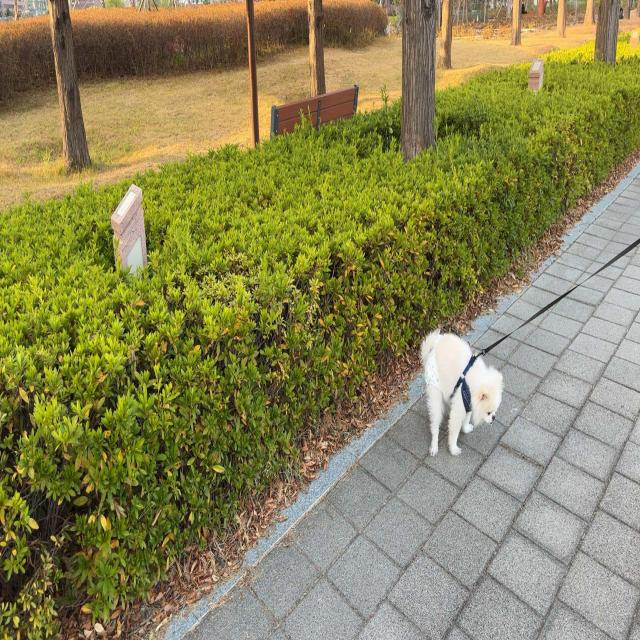Dog: (421, 326, 505, 457)
